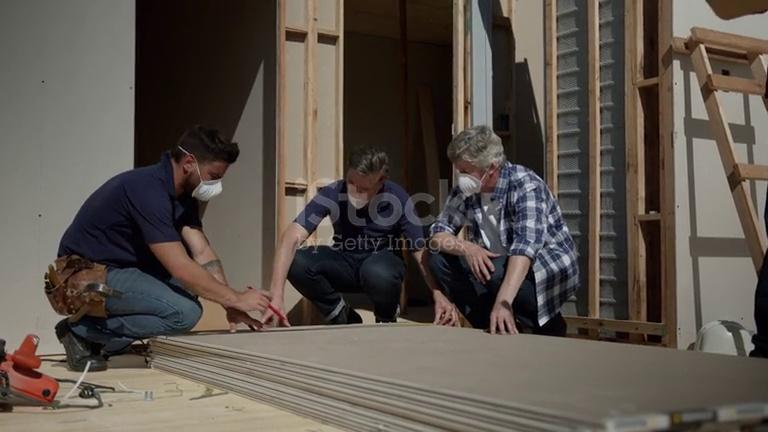helmet: (693, 319, 751, 357)
mask: (192, 178, 223, 202), (451, 174, 480, 197), (347, 186, 369, 210)
person: (44, 123, 292, 375), (268, 148, 460, 328), (424, 125, 583, 337)
